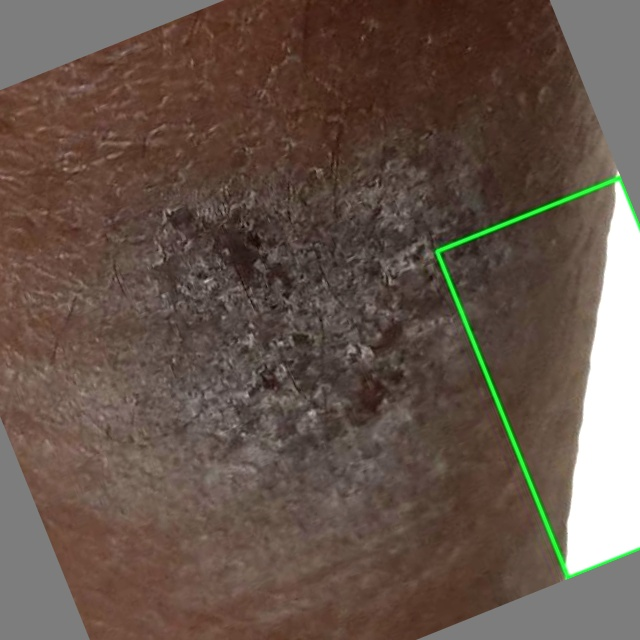Contact Dermatitis: (436, 177, 639, 577)
